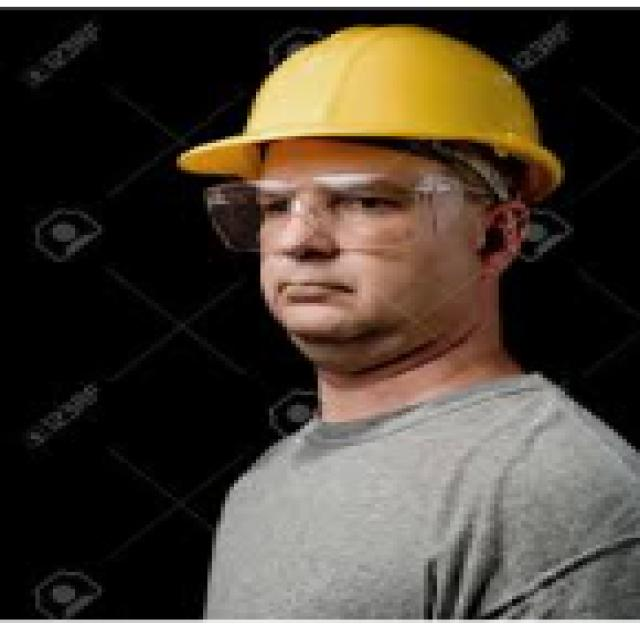glasses: (207, 171, 497, 252)
